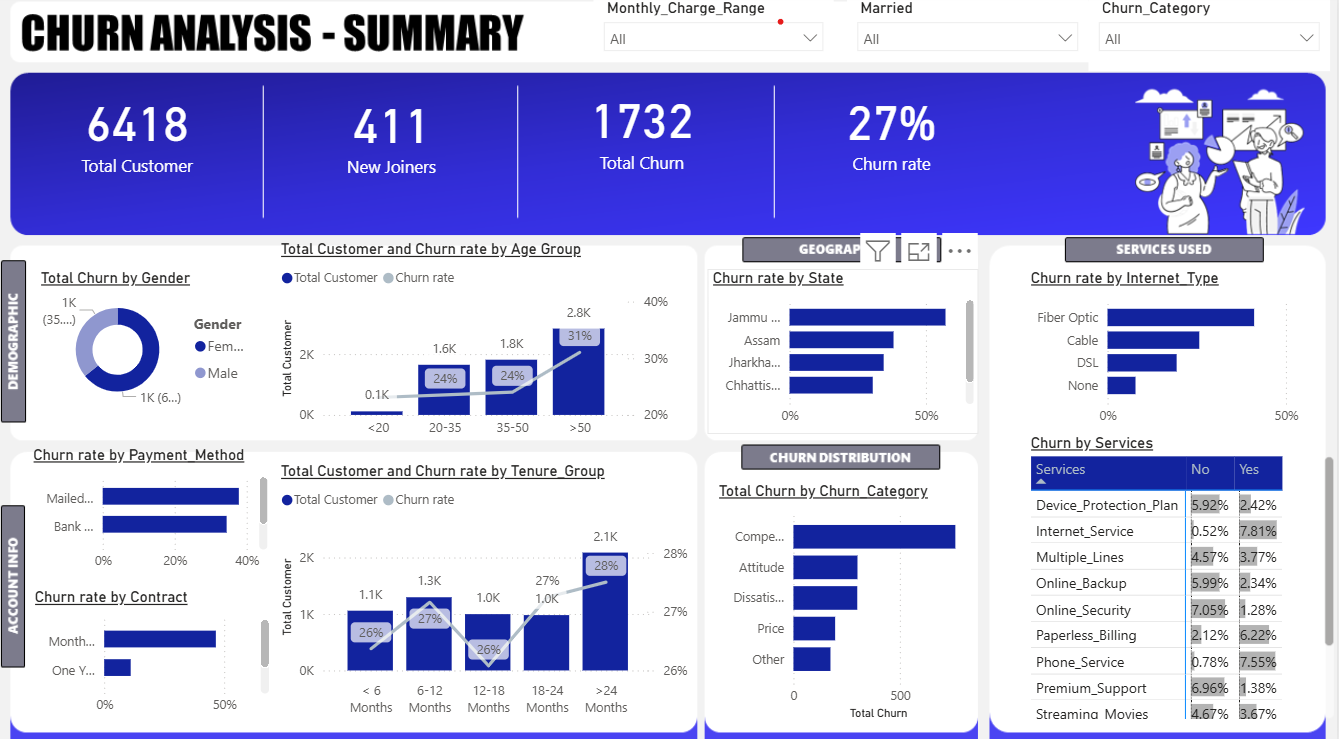

This screenshot's page, from the dashboard's own definition file:
{"tool":"powerbi","page":{"name":"Churn_Summary","canvas":[1280,720],"ordinal":0},"visuals":[{"type":"card","fields":{"Values":["_Measures.Total Customer"]},"box":[7.2,78.8,250.7,103.1],"z":0},{"type":"card","fields":{"Values":["_Measures.New Joiners"]},"box":[257.8,75.9,234.9,111.7],"z":1000},{"type":"card","fields":{"Values":["_Measures.Total Churn"]},"box":[509.9,75.9,209.1,103.1],"z":2000},{"type":"card","fields":{"Values":["_Measures.Churn rate"]},"box":[737.7,75.9,230.6,106],"z":3000},{"type":"donutChart","fields":{"Category":["prod_Churn_Customer.Gender"],"Y":["_Measures.Total Churn"]},"box":[35.8,263.6,222,137.5],"z":4000},{"type":"lineStackedColumnComboChart","fields":{"Category":["Age_Group.Age Group"],"Y":["_Measures.Total Customer"],"Y2":["_Measures.Churn rate"]},"box":[265,236.3,379.6,196.2],"z":5000},{"type":"clusteredBarChart","fields":{"Category":["prod_Churn_Customer.Payment_Method"],"Y":["_Measures.Churn rate"]},"box":[28.6,432.6,233.5,127.5],"z":6000},{"type":"clusteredBarChart","fields":{"Category":["prod_Churn_Customer.Contract"],"Y":["_Measures.Churn rate"]},"box":[30.1,568.7,233.5,128.9],"z":7000},{"type":"lineStackedColumnComboChart","fields":{"Category":["Tenure_Group.Tenure_Group"],"Y":["_Measures.Total Customer"],"Y2":["_Measures.Churn rate"]},"box":[265,448.3,398.2,249.2],"z":8000},{"type":"clusteredBarChart","fields":{"Category":["prod_Churn_Customer.State"],"Y":["_Measures.Churn rate"]},"box":[677.5,263.6,259.3,157.6],"z":9000},{"type":"clusteredBarChart","fields":{"Category":["prod_Churn_Customer.Churn_Category"],"Y":["_Measures.Total Churn"]},"box":[683.3,467,253.5,230.6],"z":10000},{"type":"clusteredBarChart","fields":{"Y":["_Measures.Churn rate"],"Category":["prod_Churn_Customer.Internet_Type"]},"box":[981.2,263.6,299.4,157.6],"z":11000},{"type":"pivotTable","title":"Churn by Services","fields":{"Rows":["Prod_Services.Services"],"Columns":["Prod_Services.Status"],"Values":["Sum(Prod_Services.Churned)"]},"box":[981.2,421.1,299.4,276.5],"z":12000},{"type":"slicer","fields":{"Values":["prod_Churn_Customer.Monthly_Charge Status"]},"box":[568.7,0,229.2,63],"z":13000},{"type":"slicer","fields":{"Values":["prod_Churn_Customer.Married"]},"box":[810.7,0,230.6,64.5],"z":14000},{"type":"slicer","fields":{"Values":["prod_Churn_Customer.Churn_Category"]},"box":[1041.3,0,230.6,74.5],"z":15000}]}

Visuals, with their boxes in screenshot pixels (x1, y1, x2, y2), scaled from the page's 1280x720 canvas onto the 1339x739 screenshot:
card - _Measures.Total Customer: locate(8, 81, 270, 187)
card - _Measures.New Joiners: locate(270, 78, 515, 193)
card - _Measures.Total Churn: locate(533, 78, 752, 184)
card - _Measures.Churn rate: locate(772, 78, 1013, 187)
donutChart - prod_Churn_Customer.Gender x _Measures.Total Churn: locate(37, 271, 270, 412)
lineStackedColumnComboChart - Age_Group.Age Group x _Measures.Total Customer: locate(277, 243, 674, 444)
clusteredBarChart - prod_Churn_Customer.Payment_Method x _Measures.Churn rate: locate(30, 444, 274, 575)
clusteredBarChart - prod_Churn_Customer.Contract x _Measures.Churn rate: locate(31, 584, 276, 716)
lineStackedColumnComboChart - Tenure_Group.Tenure_Group x _Measures.Total Customer: locate(277, 460, 694, 716)
clusteredBarChart - prod_Churn_Customer.State x _Measures.Churn rate: locate(709, 271, 980, 432)
clusteredBarChart - prod_Churn_Customer.Churn_Category x _Measures.Total Churn: locate(715, 479, 980, 716)
clusteredBarChart - _Measures.Churn rate x prod_Churn_Customer.Internet_Type: locate(1026, 271, 1338, 432)
"Churn by Services" pivotTable: locate(1026, 432, 1338, 716)
slicer - prod_Churn_Customer.Monthly_Charge Status: locate(595, 0, 835, 65)
slicer - prod_Churn_Customer.Married: locate(848, 0, 1089, 66)
slicer - prod_Churn_Customer.Churn_Category: locate(1089, 0, 1331, 76)
